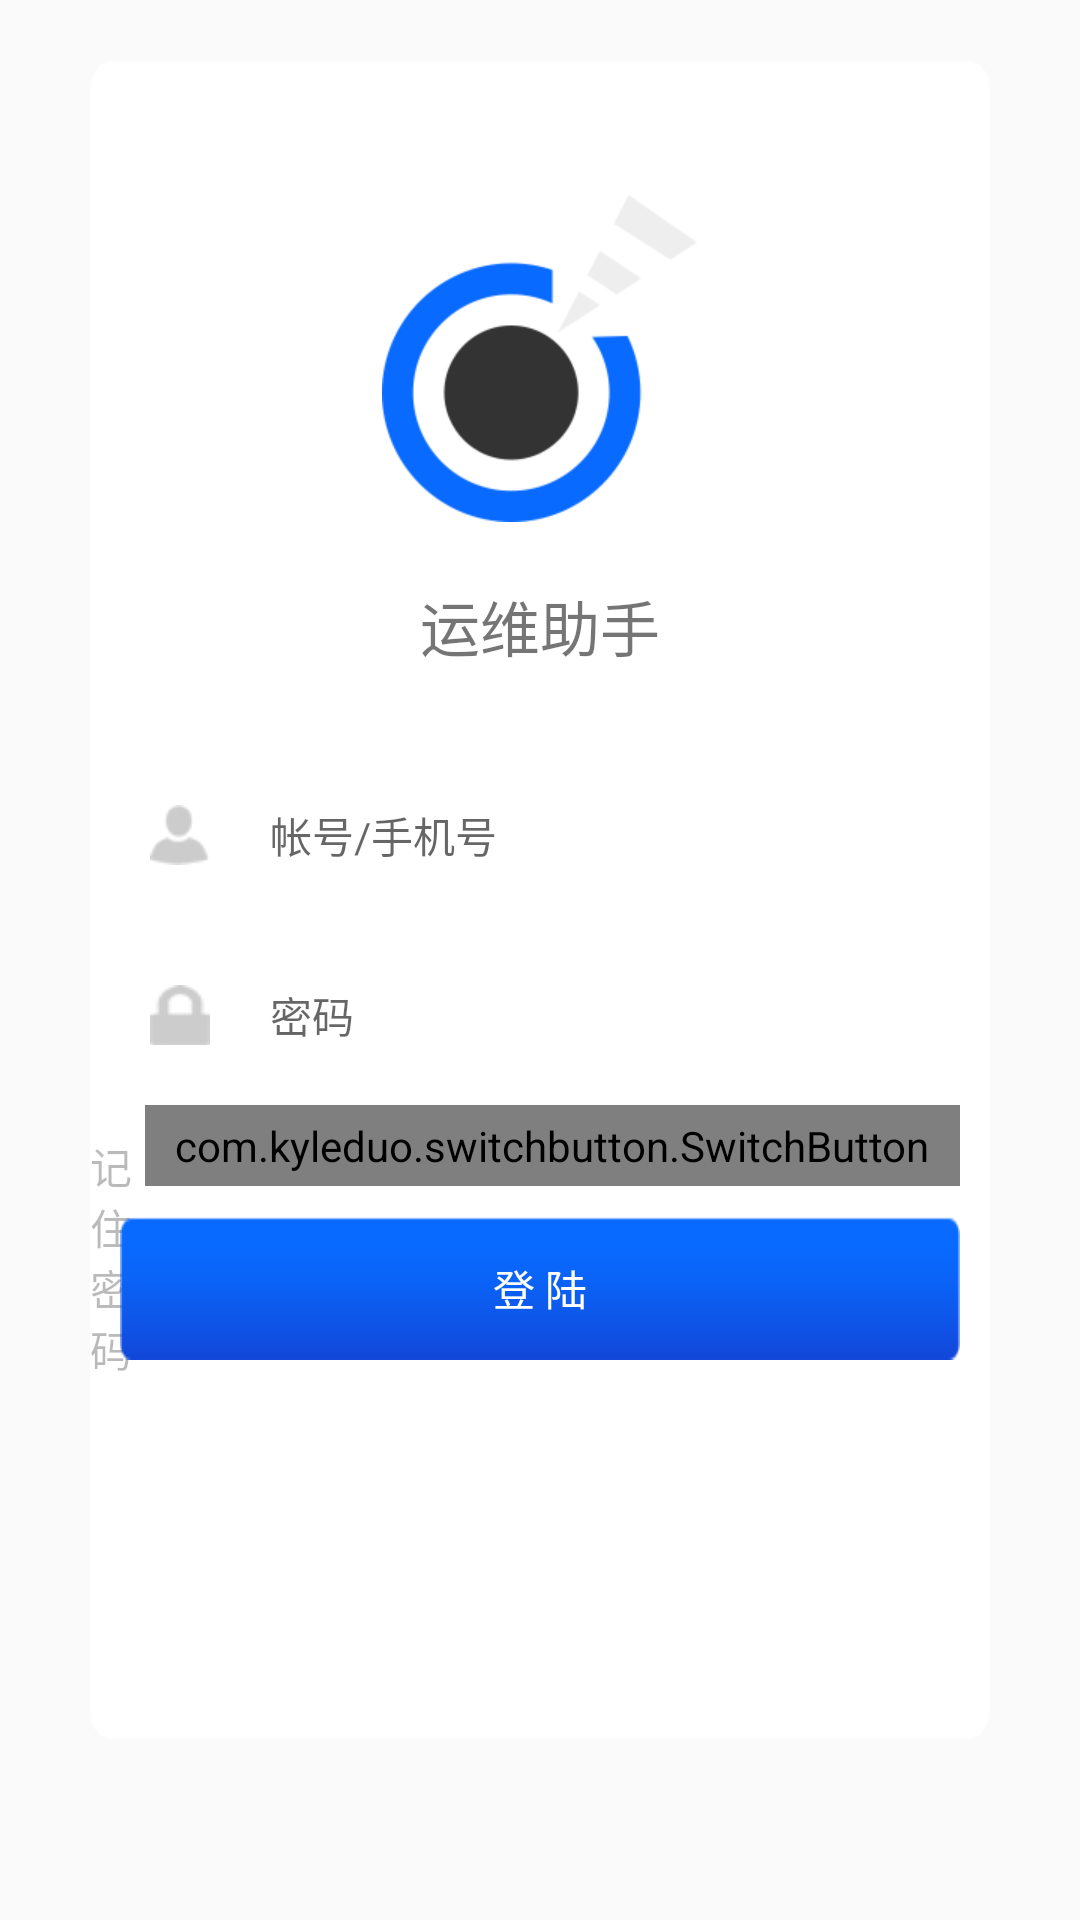

Icon bounding boxes for this 1080px×1920px phone screenshot, format (x1, y1, x2, y2):
accout: (150, 805, 208, 865)
passwd: (150, 985, 210, 1045)
